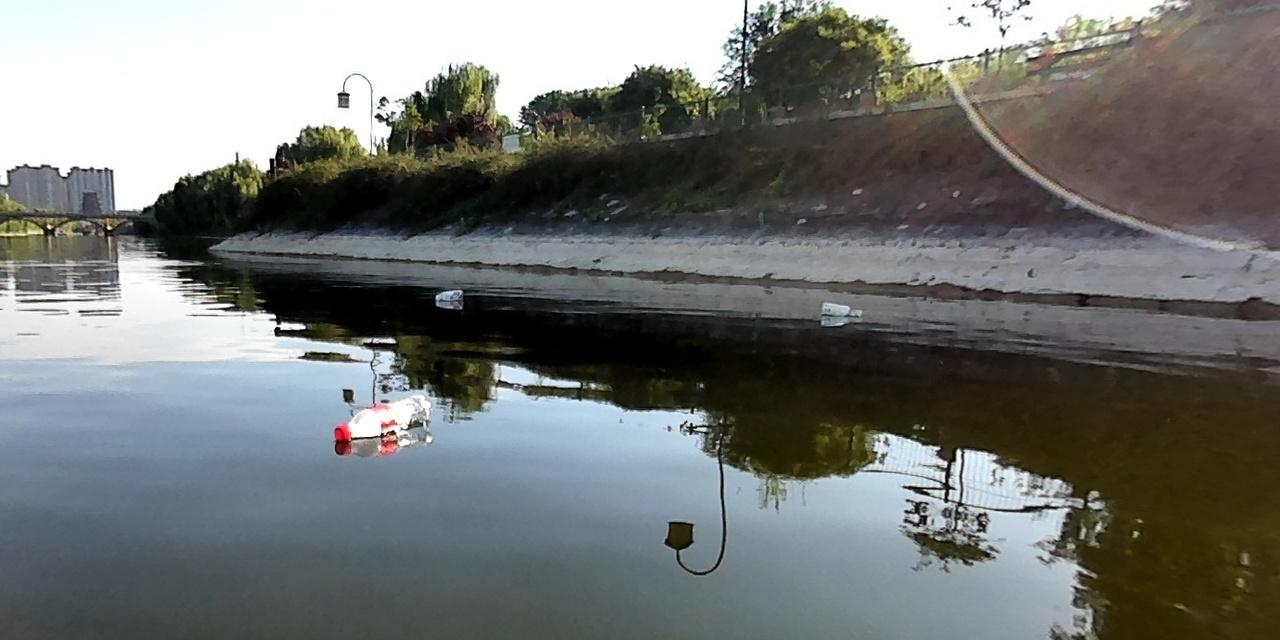bottle: (327, 388, 438, 441), (817, 298, 864, 319), (430, 285, 465, 303)
